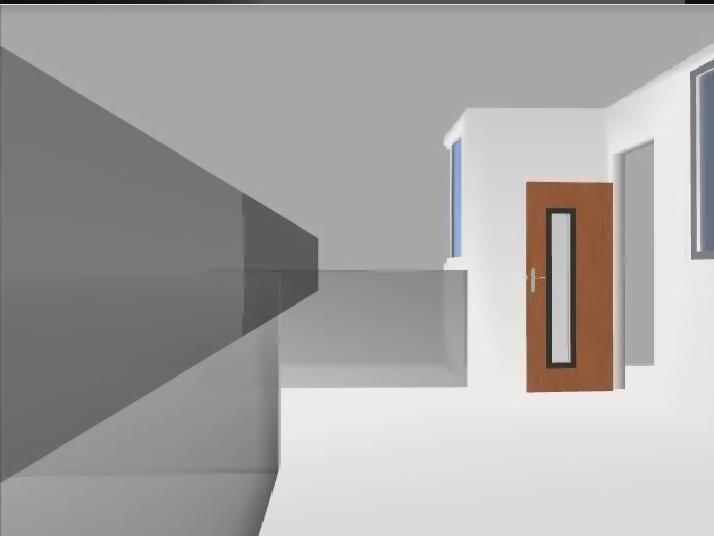door: (526, 183, 613, 393)
